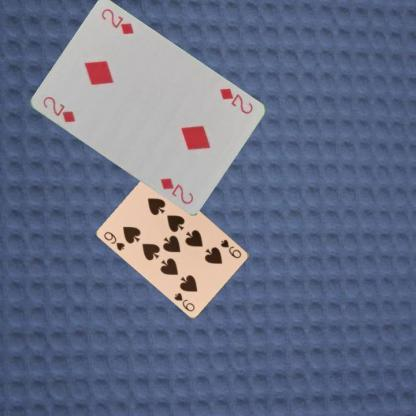2d: (217, 86, 254, 116), (40, 94, 76, 124)
9s: (218, 236, 243, 260), (102, 229, 126, 252)
